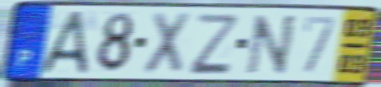7: (300, 14, 338, 76)
8: (92, 10, 135, 76)
A: (38, 9, 91, 76)
N: (244, 12, 300, 76)
X: (139, 10, 194, 77)
Z: (188, 11, 239, 77)
